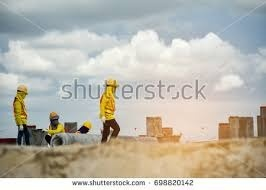helmet: (15, 83, 29, 95), (48, 111, 60, 121)
person with partial safety: (12, 83, 35, 146), (43, 111, 67, 133)
